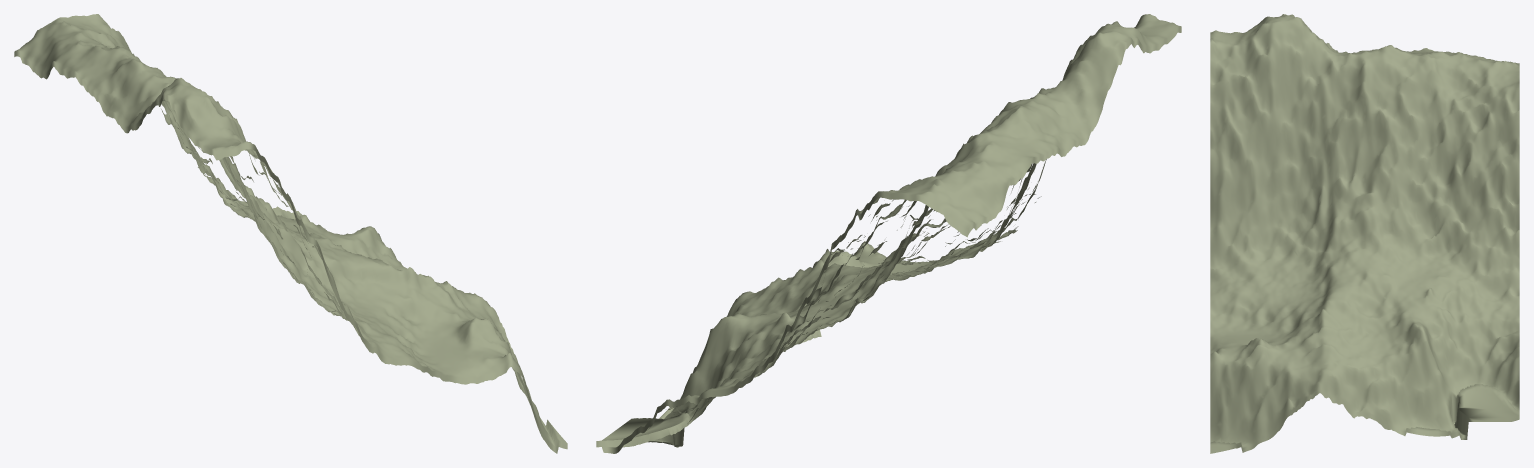
Rendered from terrain_r2_c0_lod0.glb.
3 renders of one model, left to right at view 1: azimuth 30°, elevation 25°; view 2: azimuth 150°, elevation 25°; view 3: azimuth 270°, elevation 25°, orthographic. The views are drawn at different scales.
Parts seen in each view (by area): view 1: terrain_r2_c0; view 2: terrain_r2_c0; view 3: terrain_r2_c0.
Part boxes in pixels (bbox=[...]): terrain_r2_c0: bbox=[14, 14, 567, 453]; terrain_r2_c0: bbox=[596, 14, 1181, 453]; terrain_r2_c0: bbox=[1210, 14, 1519, 453].
Bounding box in the file's own units: 50 × 56.21 × 50.
